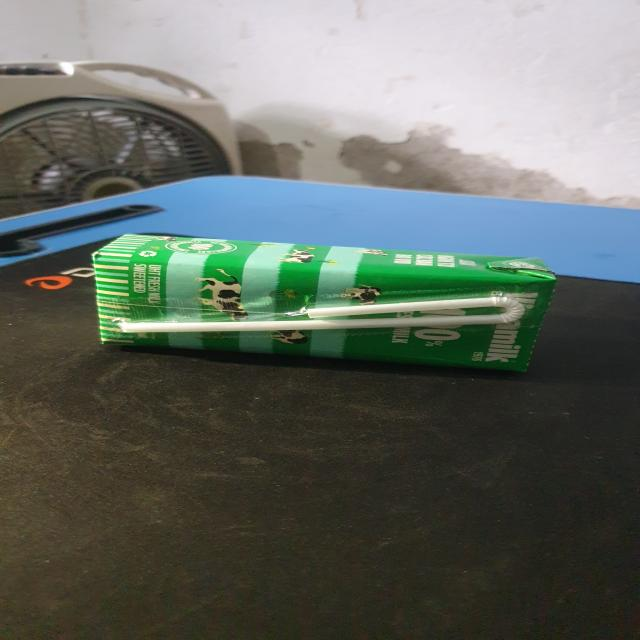Vina: (88, 231, 571, 371)
